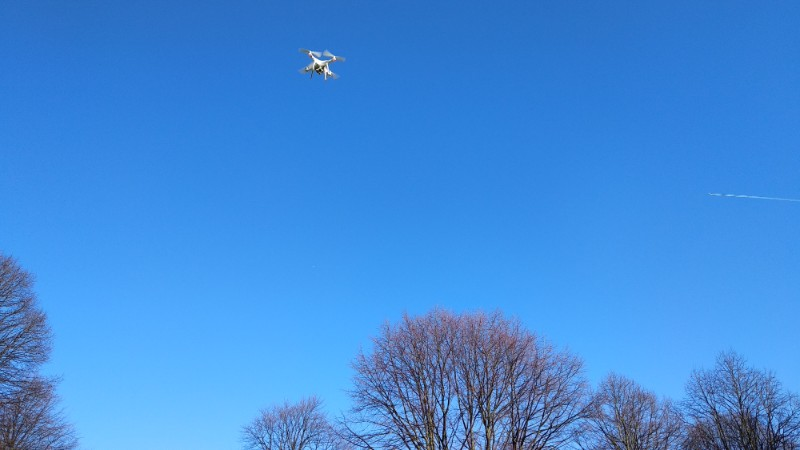drone: (294, 46, 345, 85)
